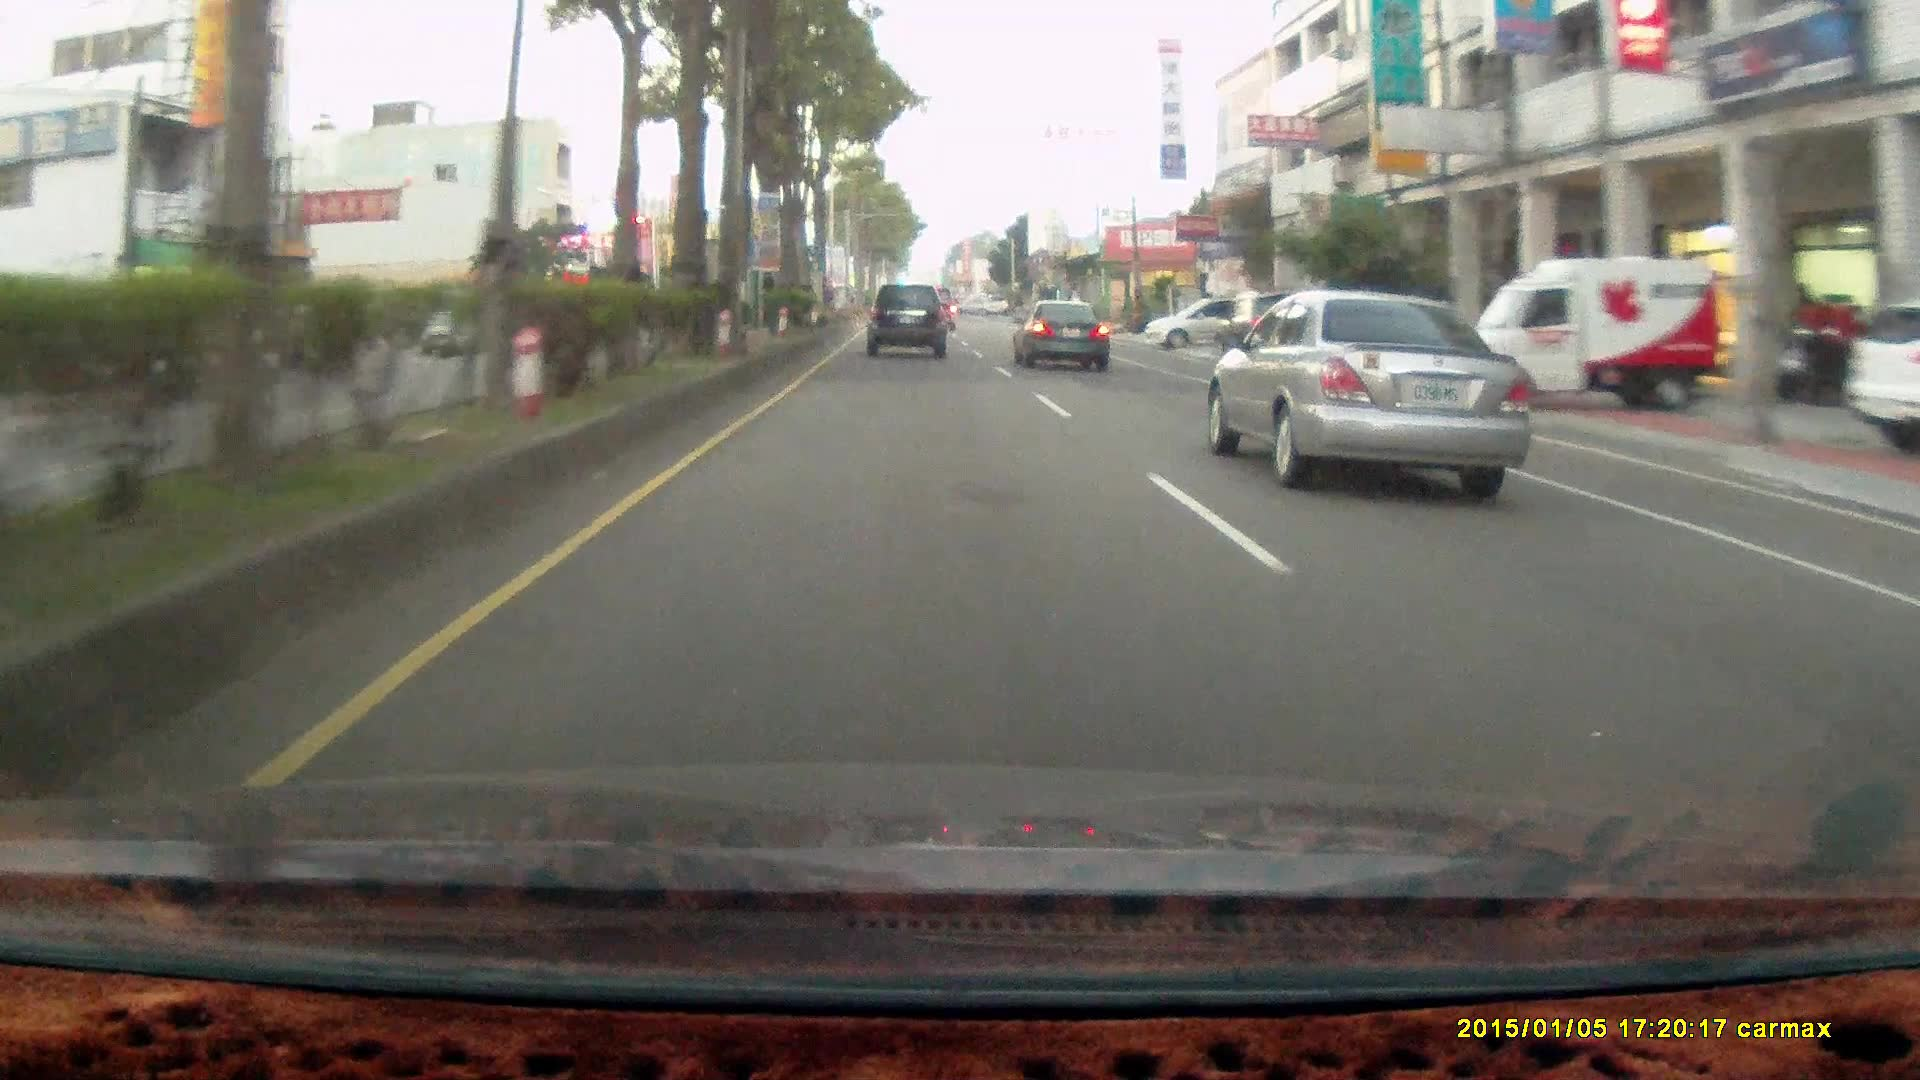vehicle: (1216, 290, 1543, 489), (1451, 255, 1725, 413), (1451, 253, 1720, 411), (1836, 298, 1916, 455), (1837, 299, 1917, 456), (1137, 295, 1274, 355), (1208, 287, 1312, 365), (1229, 287, 1333, 365), (1011, 295, 1114, 371), (1141, 295, 1278, 351), (1011, 298, 1108, 371), (866, 282, 949, 363), (865, 284, 945, 357)
